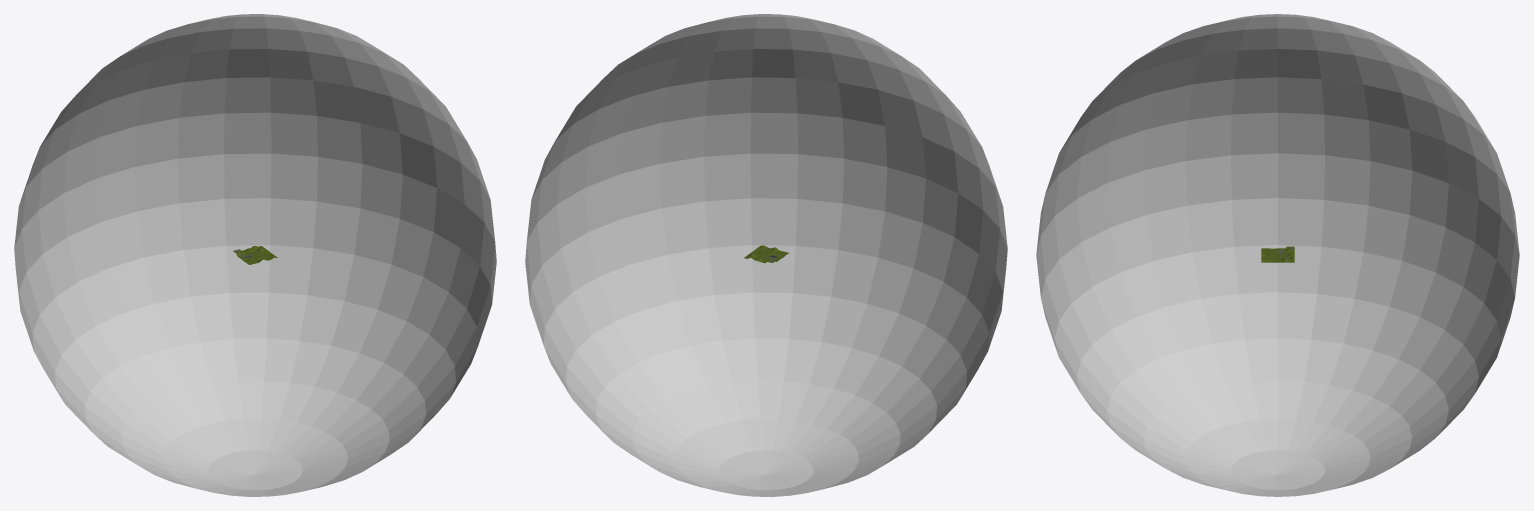
The model's file is StageMap_2.gltf.
3 renders of one model, left to right at view 1: azimuth 30°, elevation 25°; view 2: azimuth 150°, elevation 25°; view 3: azimuth 270°, elevation 25°, orthographic.
Visible parts, largest first — view 1: 球; view 2: 球; view 3: 球, StageMap.
Part boxes in pixels (left/top/right/bottom): 球: left=14, top=14, right=496, bottom=496; 球: left=525, top=14, right=1007, bottom=496; 球: left=1036, top=14, right=1519, bottom=496; StageMap: left=1261, top=246, right=1294, bottom=262.
Bounding box in the file's own units: 868 × 868 × 868.
